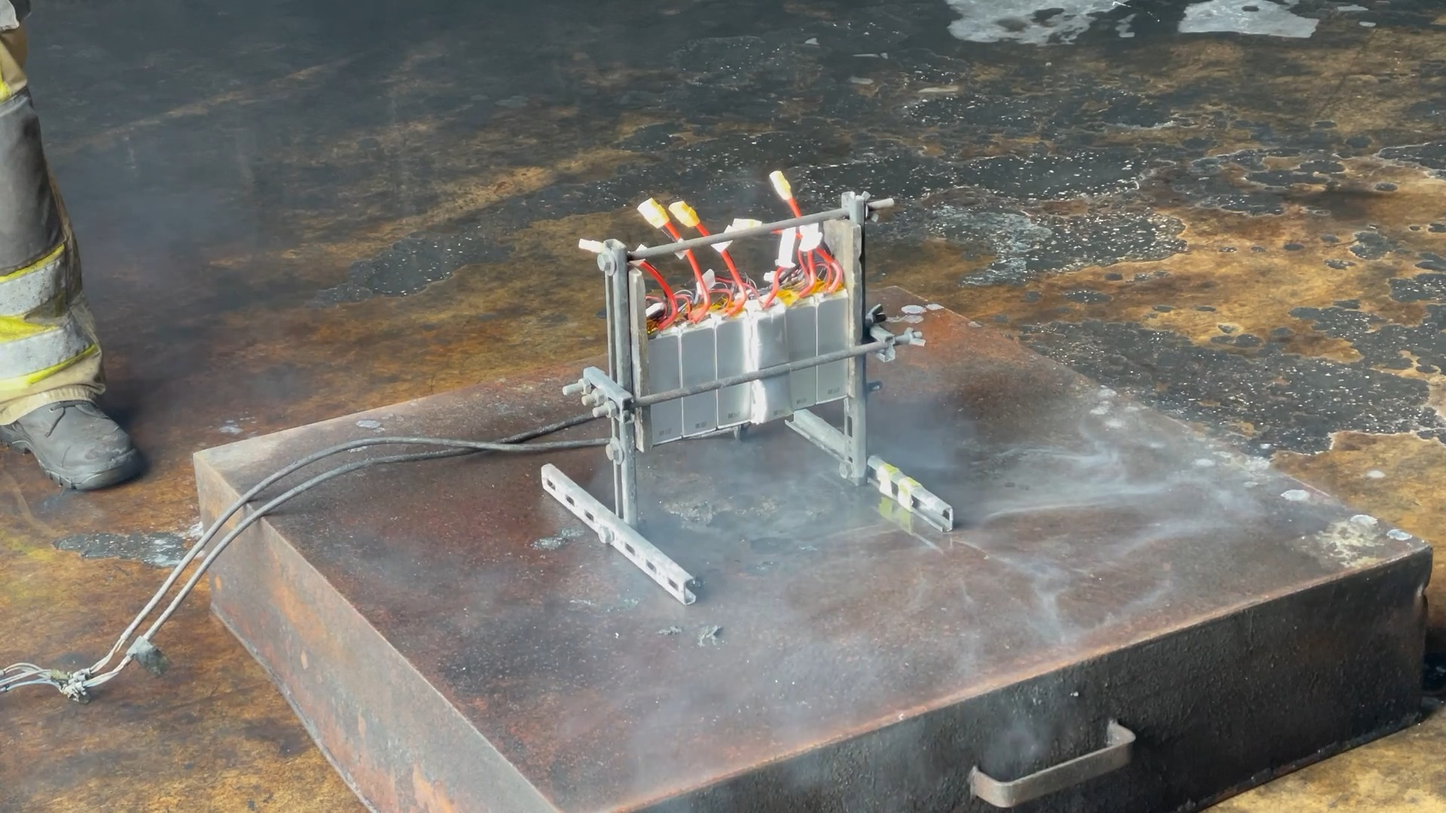smoke: (556, 336, 1361, 791), (55, 1, 660, 450)
